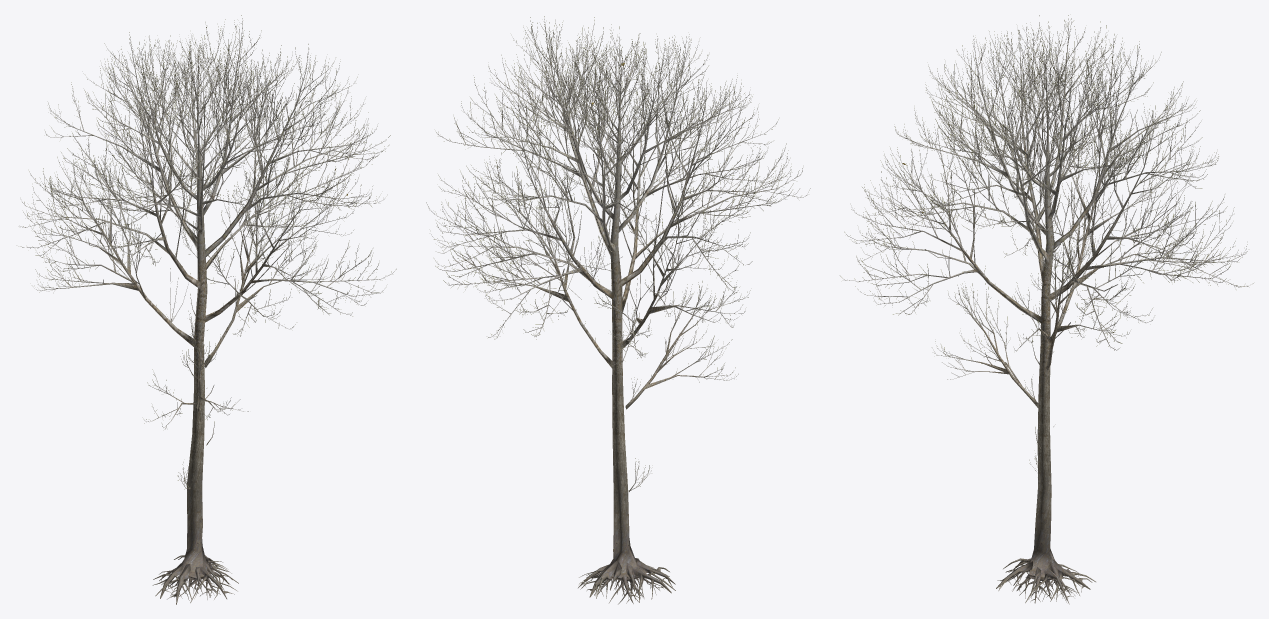
The model's file is Populus nigra HD_Forest 2 winter mat 100_LOD4.fbx.
The picture shows the model from 3 angles, left to right: view 1: azimuth 30°, elevation 25°; view 2: azimuth 150°, elevation 25°; view 3: azimuth 270°, elevation 25°; orthographic projection. The views are drawn at different scales.
Parts seen in each view (by area): view 1: Populus_nigra_HD; view 2: Populus_nigra_HD; view 3: Populus_nigra_HD.
Boxes of the visible parts, x1,y1,x2,y2 form: Populus_nigra_HD: (19, 15, 396, 604); Populus_nigra_HD: (426, 16, 810, 604); Populus_nigra_HD: (840, 15, 1253, 604).
Size of the model in its own units: 18.51 by 29.79 by 19.87.
6 materials, 6 textured.
